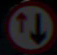Two way: (3, 4, 50, 45)
